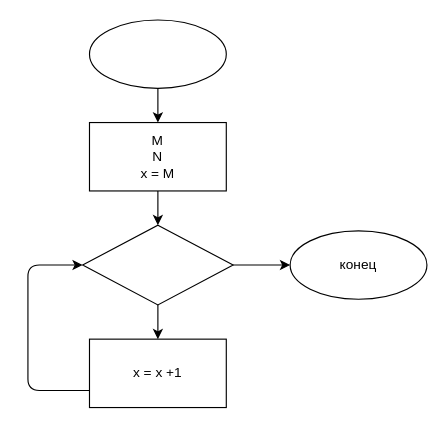
Some shapes in this 447 by 428 pixel diagram are drawn without their labels. The centre of each missing label's shape, as x and y in pixels:
"x <= N" goes at point (157, 264).
"начало" goes at point (157, 53).
